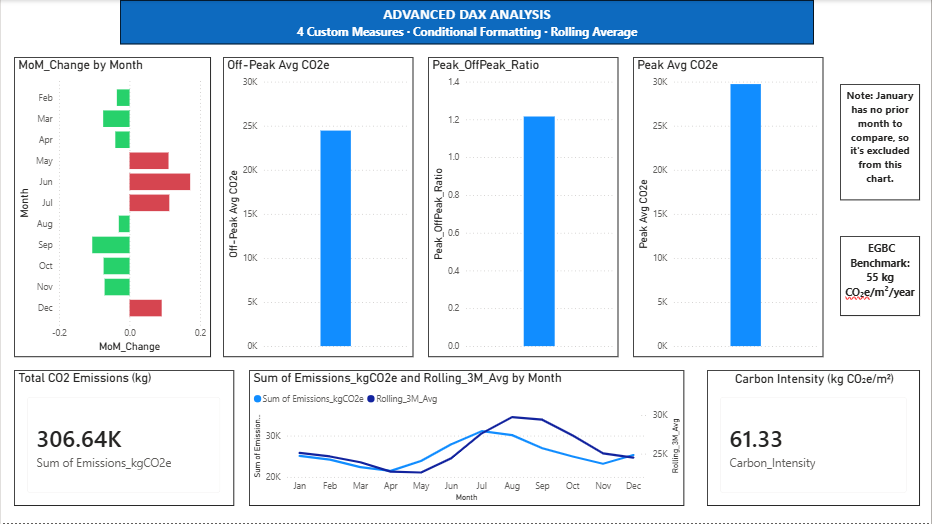

The page's visual inventory and layout, read from the dashboard file:
{"tool":"powerbi","page":{"name":"Advanced DAX Analysis","canvas":[1280,720],"ordinal":1},"visuals":[{"type":"clusteredBarChart","fields":{"Category":["energy_data.Month"],"Y":["energy_data.MoM_Change"]},"box":[17.9,78.5,271.1,412.9],"z":0},{"type":"clusteredColumnChart","fields":{"Y":["energy_data.Off-Peak Avg CO2e"]},"box":[305.5,78.5,261.5,412.9],"z":1000},{"type":"clusteredColumnChart","fields":{"Y":["energy_data.Peak Avg CO2e"]},"box":[869.8,78.5,261.5,412.9],"z":2000},{"type":"clusteredColumnChart","fields":{"Y":["energy_data.Peak_OffPeak_Ratio"]},"box":[587.7,78.5,261.5,412.9],"z":3000},{"type":"cardVisual","title":"Carbon Intensity (kg CO₂e/m²)","fields":{"Data":["energy_data.Carbon_Intensity"]},"box":[971.7,509.2,293.2,187.2],"z":4000},{"type":"cardVisual","title":"Total CO2 Emissions (kg)","fields":{"Data":["Sum(energy_data.Emissions_kgCO2e)"]},"box":[17.9,509.2,302.8,187.2],"z":5000},{"type":"textbox","box":[1154.8,115.6,110.1,159.7],"z":6000},{"type":"textbox","box":[1154.8,324.8,110.1,110.1],"z":7000},{"type":"textbox","box":[163.8,0,955.2,60.6],"z":8000},{"type":"lineChart","fields":{"Category":["energy_data.Month"],"Y":["Sum(energy_data.Emissions_kgCO2e)"],"Y2":["energy_data.Rolling_3M_Avg"]},"box":[341.3,509.2,598.7,187.2],"z":9000}]}

Visuals, with their boxes in screenshot pixels (x1, y1, x2, y2), scaled from the page's 1280x720 canvas onto the 932x524 screenshot:
clusteredBarChart - energy_data.Month x energy_data.MoM_Change: x1=13, y1=57, x2=210, y2=358
clusteredColumnChart - energy_data.Off-Peak Avg CO2e: x1=222, y1=57, x2=413, y2=358
clusteredColumnChart - energy_data.Peak Avg CO2e: x1=633, y1=57, x2=824, y2=358
clusteredColumnChart - energy_data.Peak_OffPeak_Ratio: x1=428, y1=57, x2=618, y2=358
"Carbon Intensity (kg CO₂e/m²)" cardVisual: x1=708, y1=371, x2=921, y2=507
"Total CO2 Emissions (kg)" cardVisual: x1=13, y1=371, x2=234, y2=507
textbox: x1=841, y1=84, x2=921, y2=200
textbox: x1=841, y1=236, x2=921, y2=317
textbox: x1=119, y1=0, x2=815, y2=44
lineChart - energy_data.Month x Sum(energy_data.Emissions_kgCO2e): x1=249, y1=371, x2=684, y2=507
